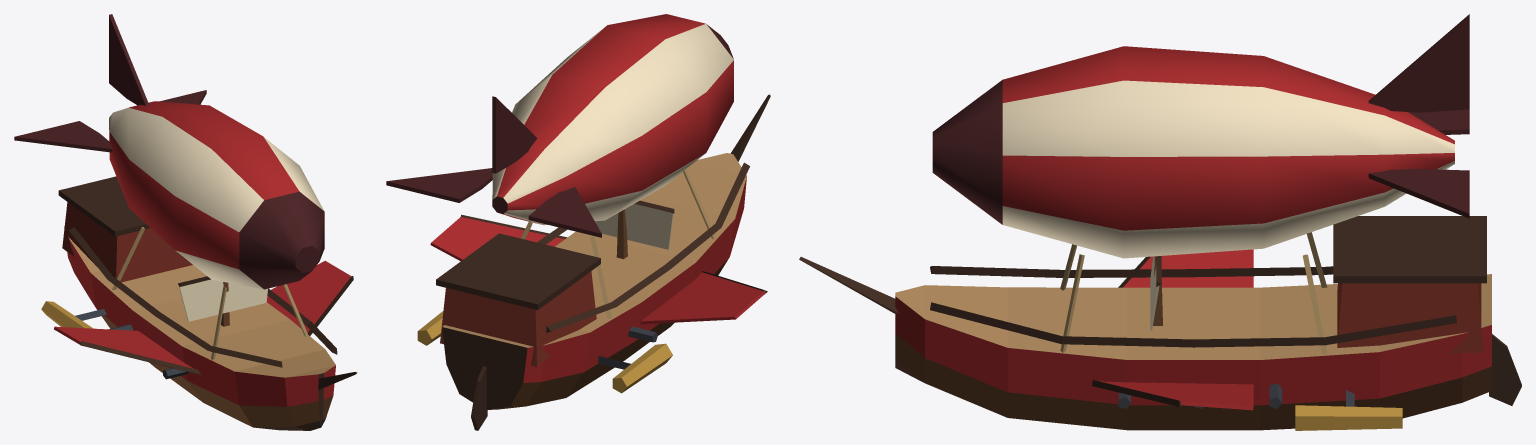
File: SM_Ship_Brigantine_LQ.glb
The picture shows the model from 3 angles, left to right: view 1: azimuth 30°, elevation 25°; view 2: azimuth 150°, elevation 25°; view 3: azimuth 270°, elevation 25°; orthographic projection. The views are drawn at different scales.
Visible parts, largest first — view 1: SM_Ship_Brigantine_LQ; view 2: SM_Ship_Brigantine_LQ; view 3: SM_Ship_Brigantine_LQ.
Part boxes in pixels (x1,y1,x2,y2): SM_Ship_Brigantine_LQ: (14, 14, 357, 430); SM_Ship_Brigantine_LQ: (386, 14, 770, 430); SM_Ship_Brigantine_LQ: (799, 14, 1521, 430).
Size of the model in its own units: 11.56 by 12.03 by 19.38.
1 material, 1 textured.
